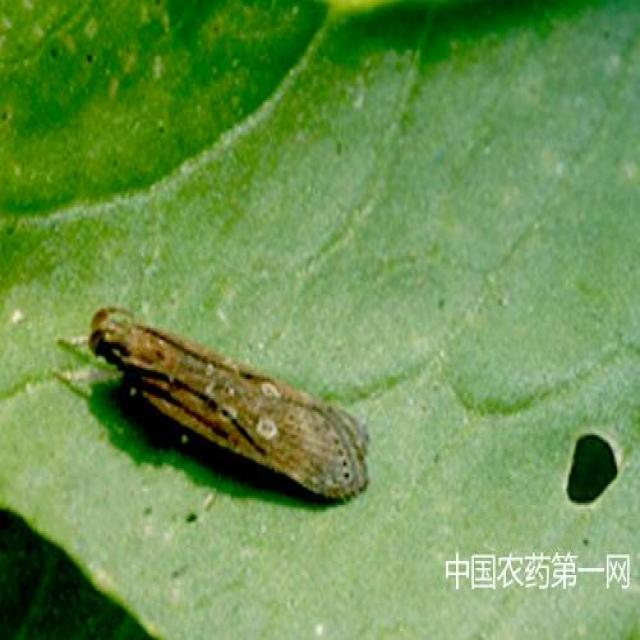armyworm: (89, 287, 379, 508)
